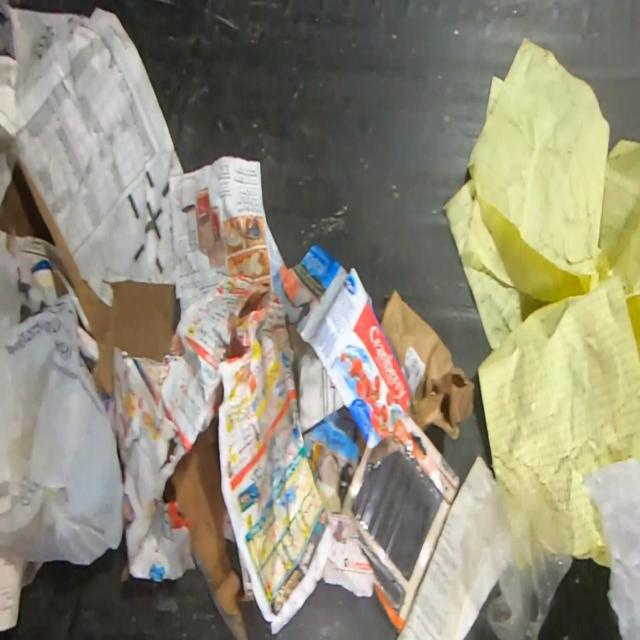cardboard: (0, 159, 177, 400), (340, 416, 461, 634), (168, 418, 257, 614), (378, 290, 476, 440)
soft_plastic: (0, 231, 124, 566), (460, 467, 575, 639), (584, 456, 640, 640)
